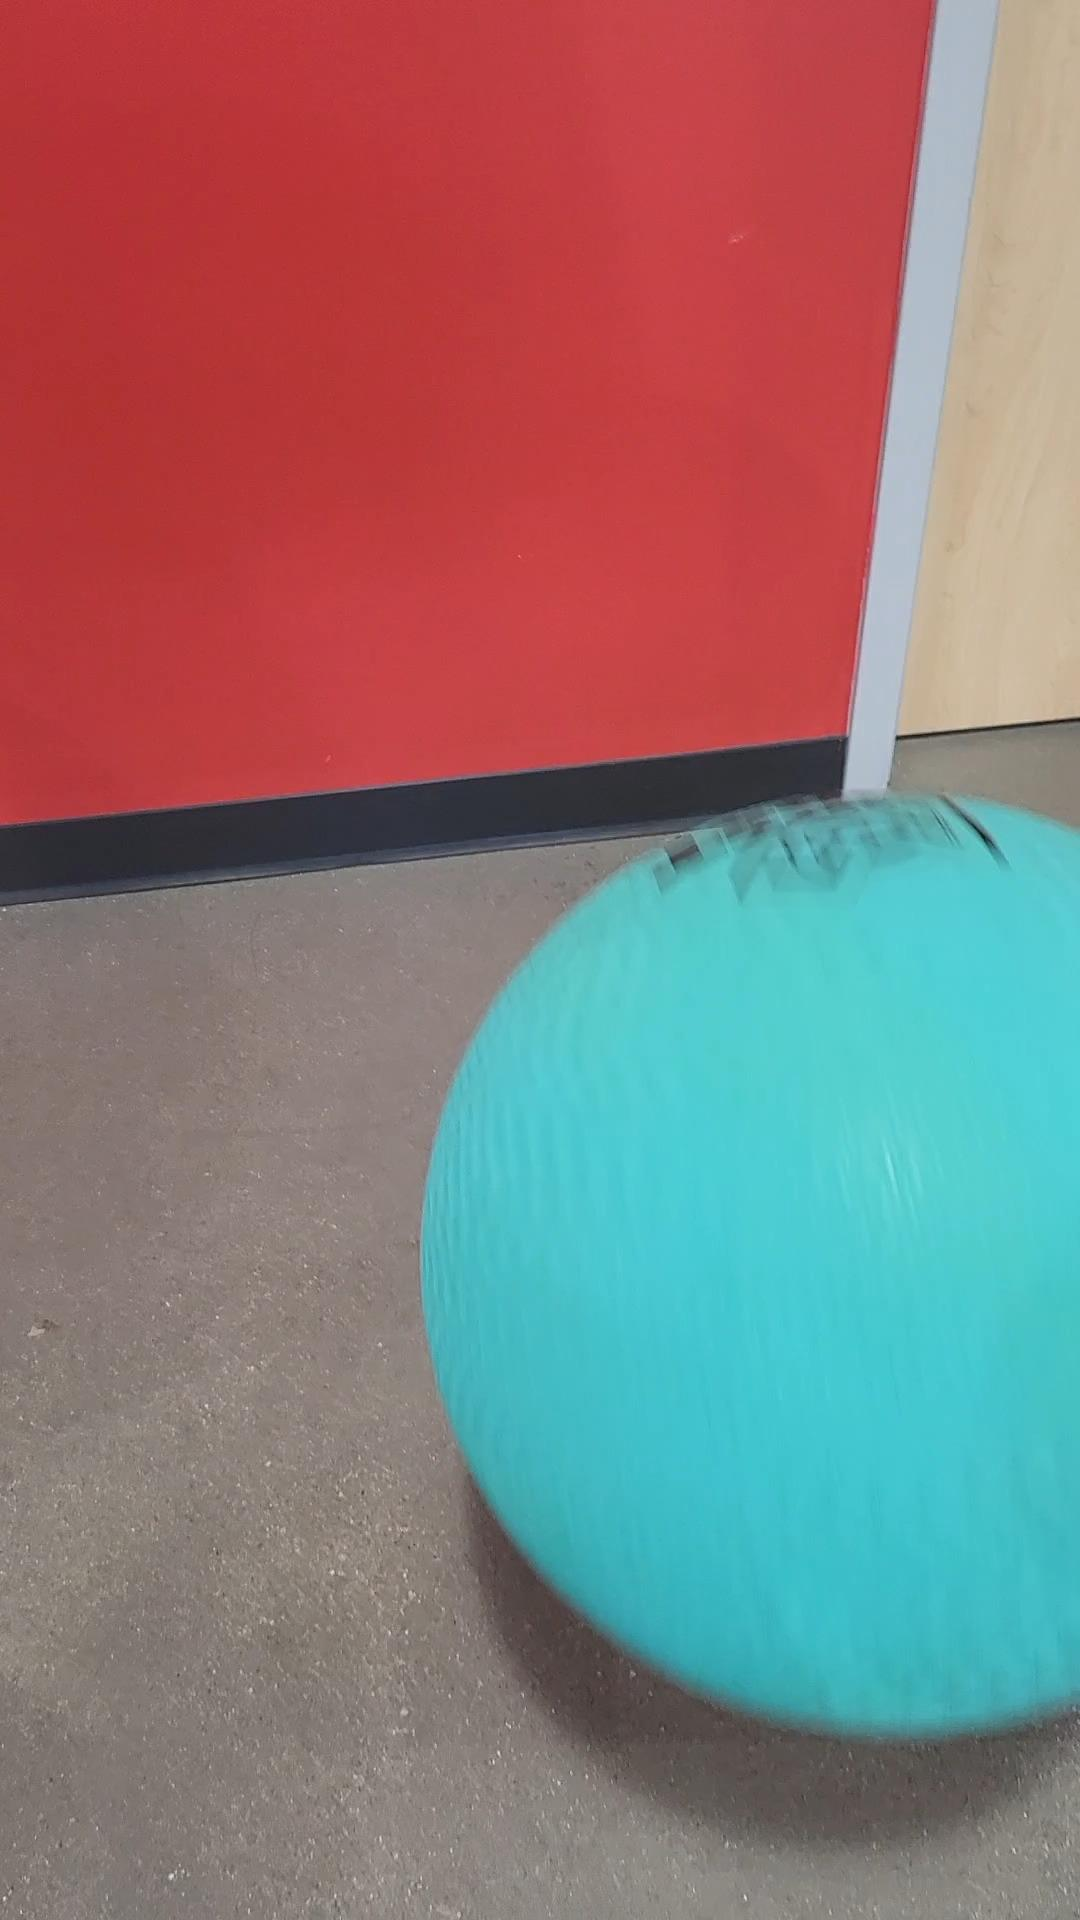algae: (426, 796, 1080, 1725)
